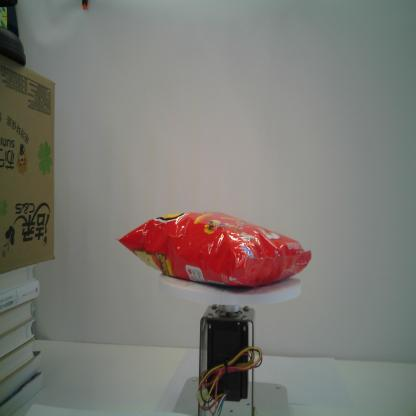Puffed Food: (115, 210, 313, 289)
